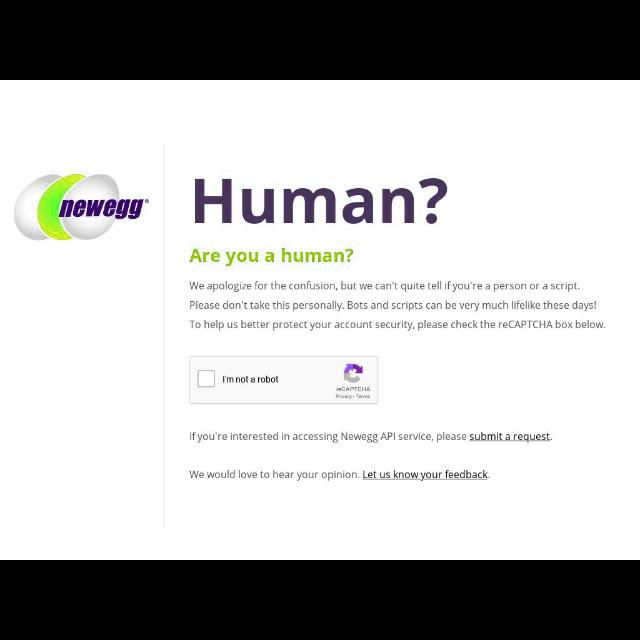checkbox: (198, 370, 216, 388)
image: (13, 175, 149, 241), (336, 364, 370, 398)
panel: (190, 356, 378, 404)
text: (189, 281, 606, 331), (195, 178, 448, 224), (190, 432, 552, 442), (190, 470, 490, 480), (190, 248, 354, 266), (223, 375, 279, 383)
